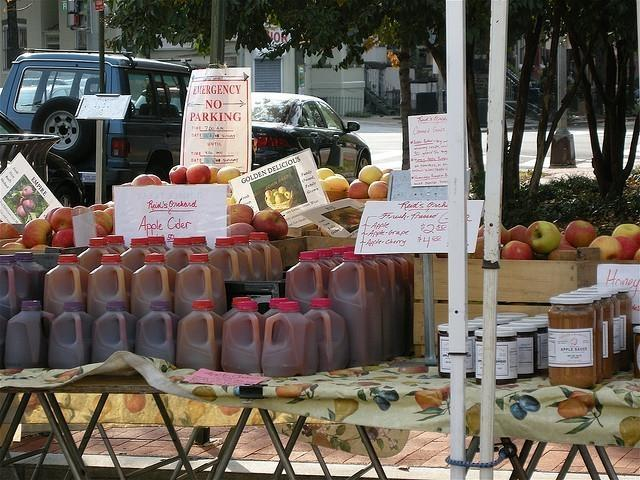car: (0, 51, 191, 198), (251, 92, 373, 178)
